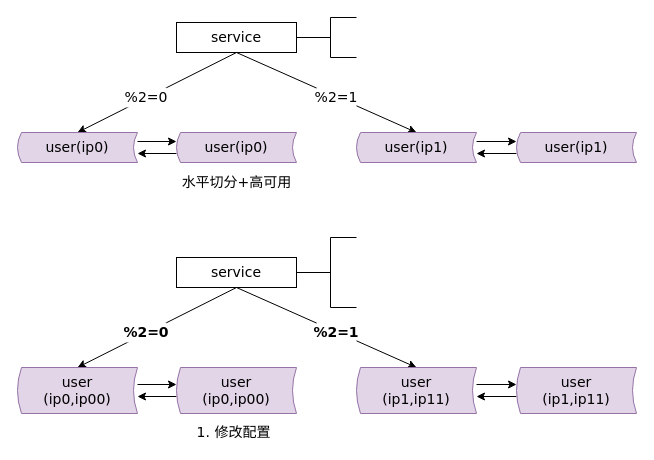
Some shapes in this 654 by 460 pixel diagram are drawn without their labels. The shapes that lost their labels are listed below. From the top down, each one's box as (x1, y1, x2, y2) in pixels, then its label:
(330, 16, 356, 58): user，2，0，ip0 user，2，1，ip1
(330, 236, 356, 308): user，4，0，ip0 user，4，2，ip00 user，4，1，ip1 user，4，3，ip11
